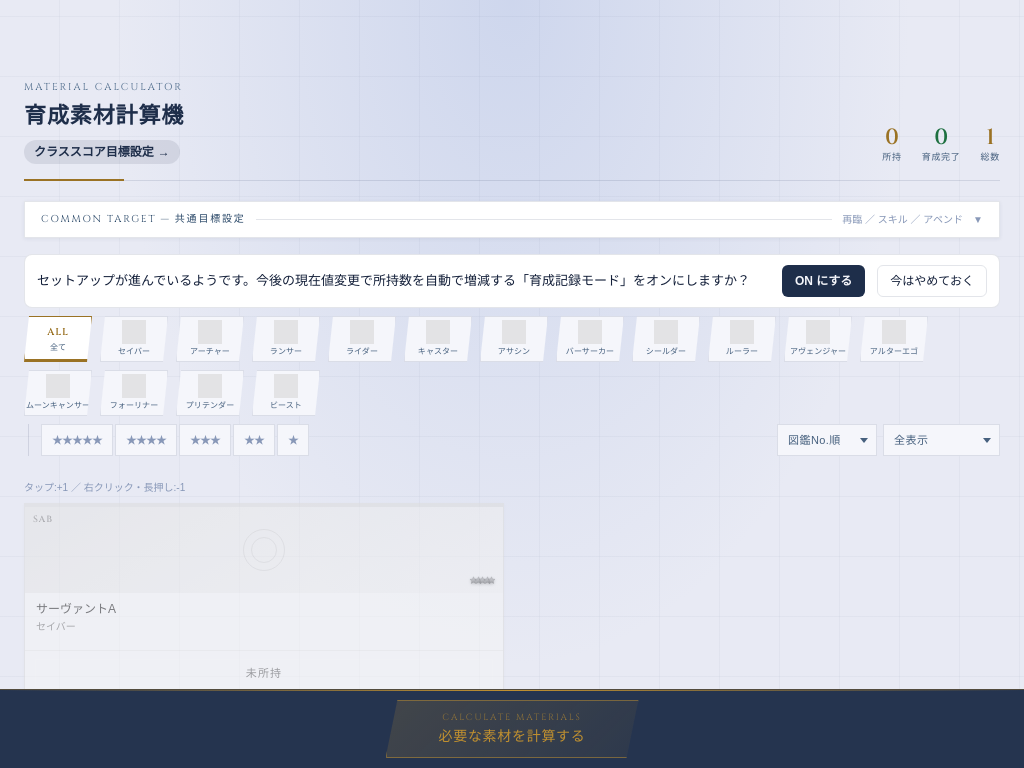
Test: Index - tracking-mode suggestion banner › appears once possession becomes non-zero (e.g. synced in from /material/result), and "ON にする" enables tracking mode and dismisses it
Expected: the text "セットアップが進んでいるようです。今後の現在値変更で所持数を自動で増減する「育成記録モード」をオンにしますか？" is shown, [37,271,770,291]
Click the button "ON にする" at (824,281), box [782,265,865,297]
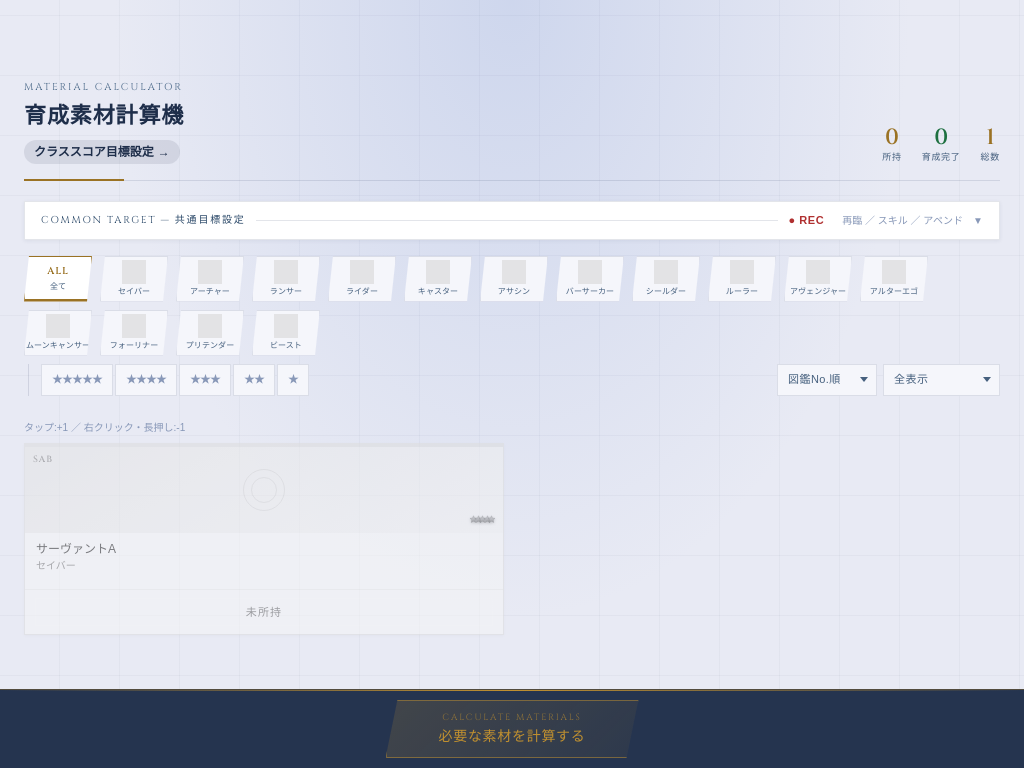
Result: the text "セットアップが進んでいるようです。今後の現在値変更で所持数を自動で増減する「育成記録モード」をオンにしますか？" is gone
